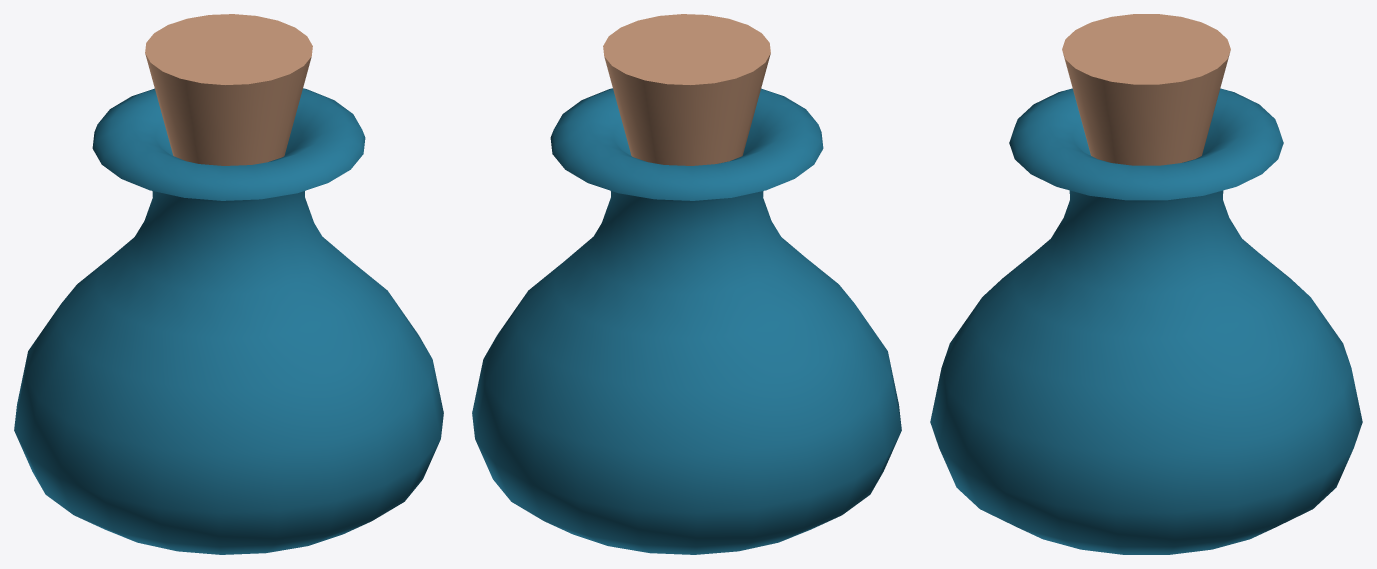
File: OT_161_magic_bottle.glb
3 views of the same model, side by side, from view 1: azimuth 30°, elevation 25°; view 2: azimuth 150°, elevation 25°; view 3: azimuth 270°, elevation 25° (orthographic).
Visible parts, largest first — view 1: magic_bottle; view 2: magic_bottle; view 3: magic_bottle.
Boxes of the visible parts, x1,y1,x2,y2 form: magic_bottle: [14, 14, 443, 554]; magic_bottle: [472, 14, 901, 554]; magic_bottle: [930, 14, 1362, 554].
Size of the model in its own units: 0.4642 by 0.5316 by 0.4689.
